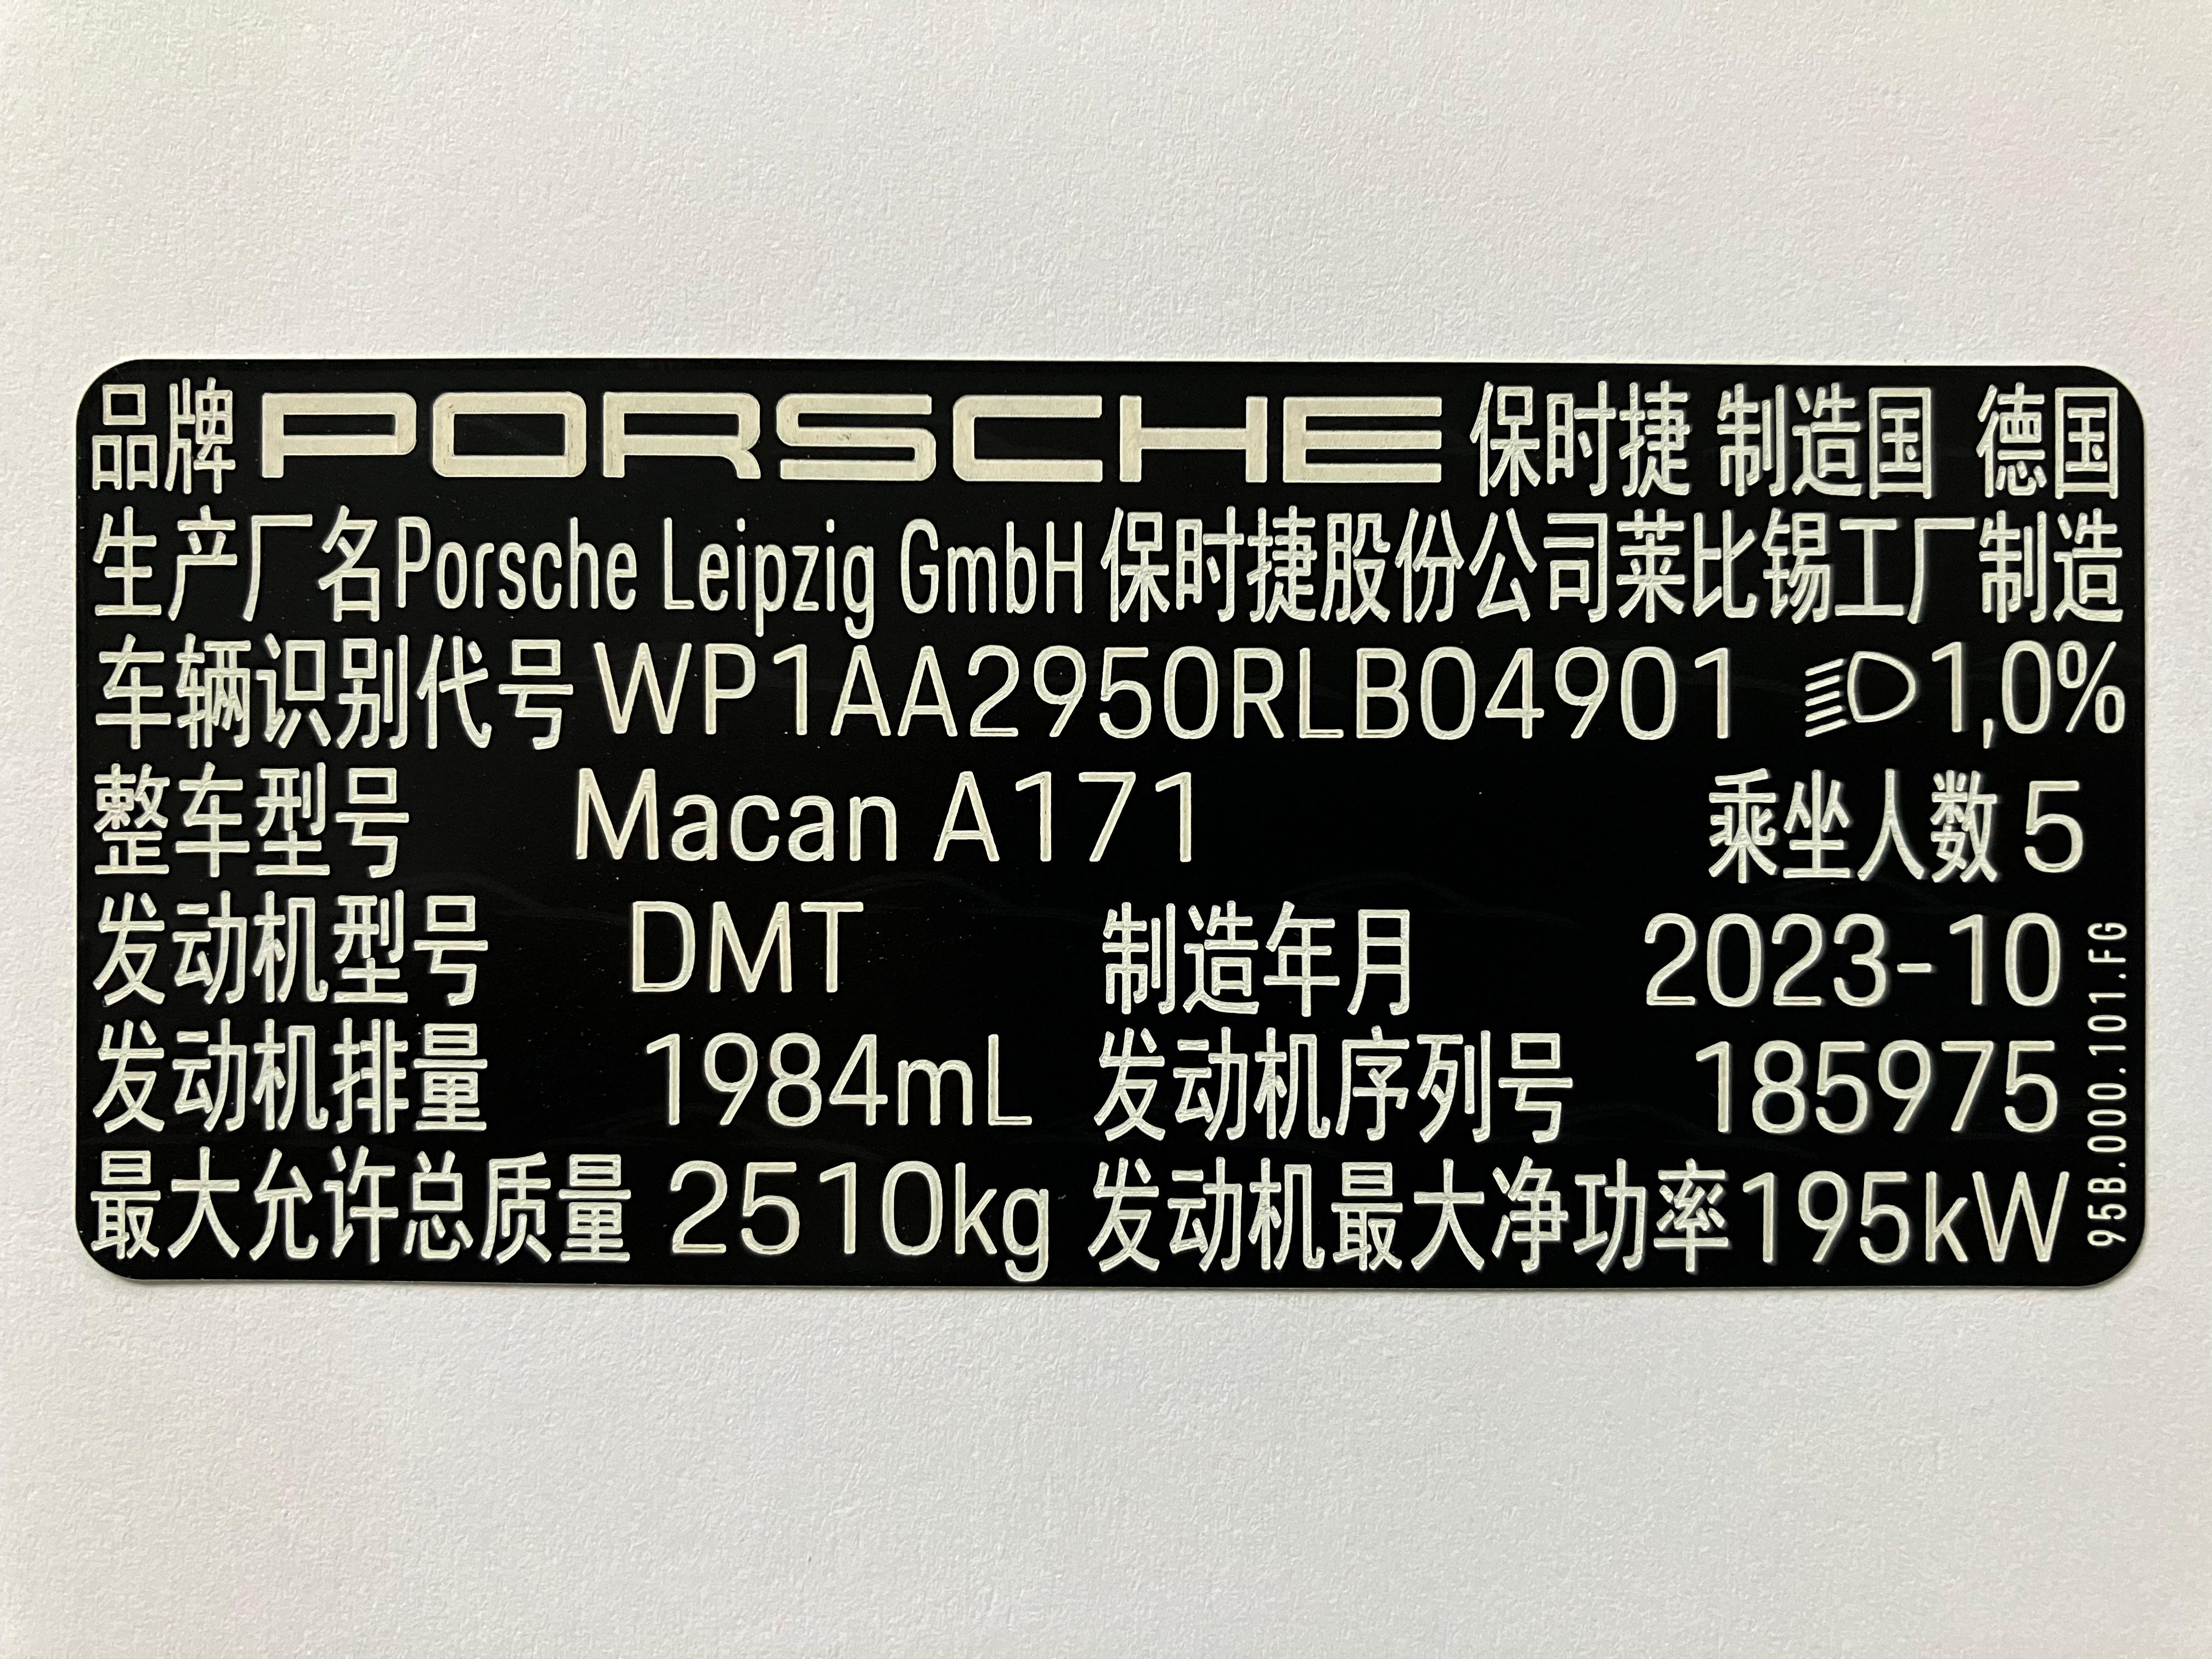Typlabel-China: (75, 359, 2144, 1288)
